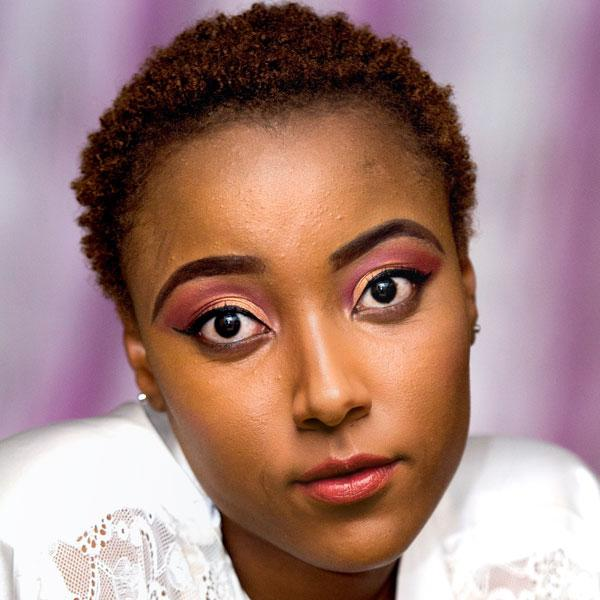Eyes: (171, 284, 284, 369), (343, 256, 437, 327)
